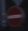No entry: (5, 5, 22, 26)
